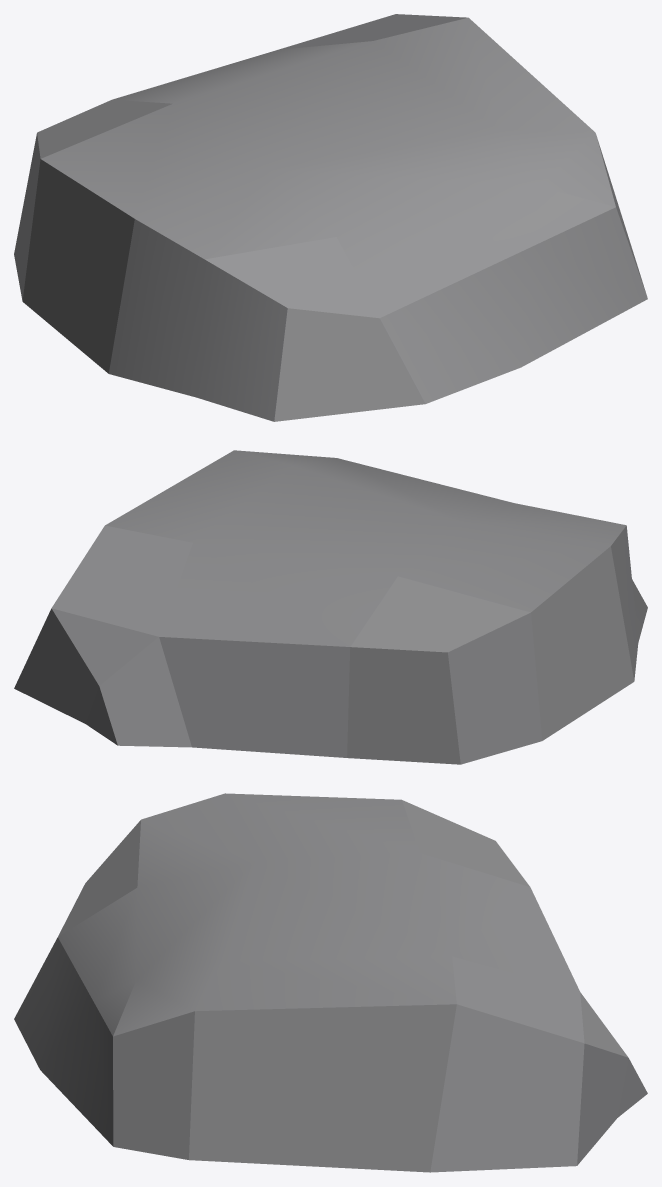
File: RockSmall_01.glb
The picture shows the model from 3 angles, top to bottom: view 1: azimuth 30°, elevation 25°; view 2: azimuth 150°, elevation 25°; view 3: azimuth 270°, elevation 25°; orthographic projection. The views are drawn at different scales.
Parts seen in each view (by area): view 1: RockSmall_01; view 2: RockSmall_01; view 3: RockSmall_01.
Boxes of the visible parts, left/top/right/bottom form: RockSmall_01: left=14, top=14, right=647, bottom=421; RockSmall_01: left=14, top=450, right=647, bottom=764; RockSmall_01: left=14, top=793, right=647, bottom=1172.
Size of what is drawn, in the model's own units: 0.8067 by 0.2222 by 0.8655.
Materials: 1 (1 with a texture image).
